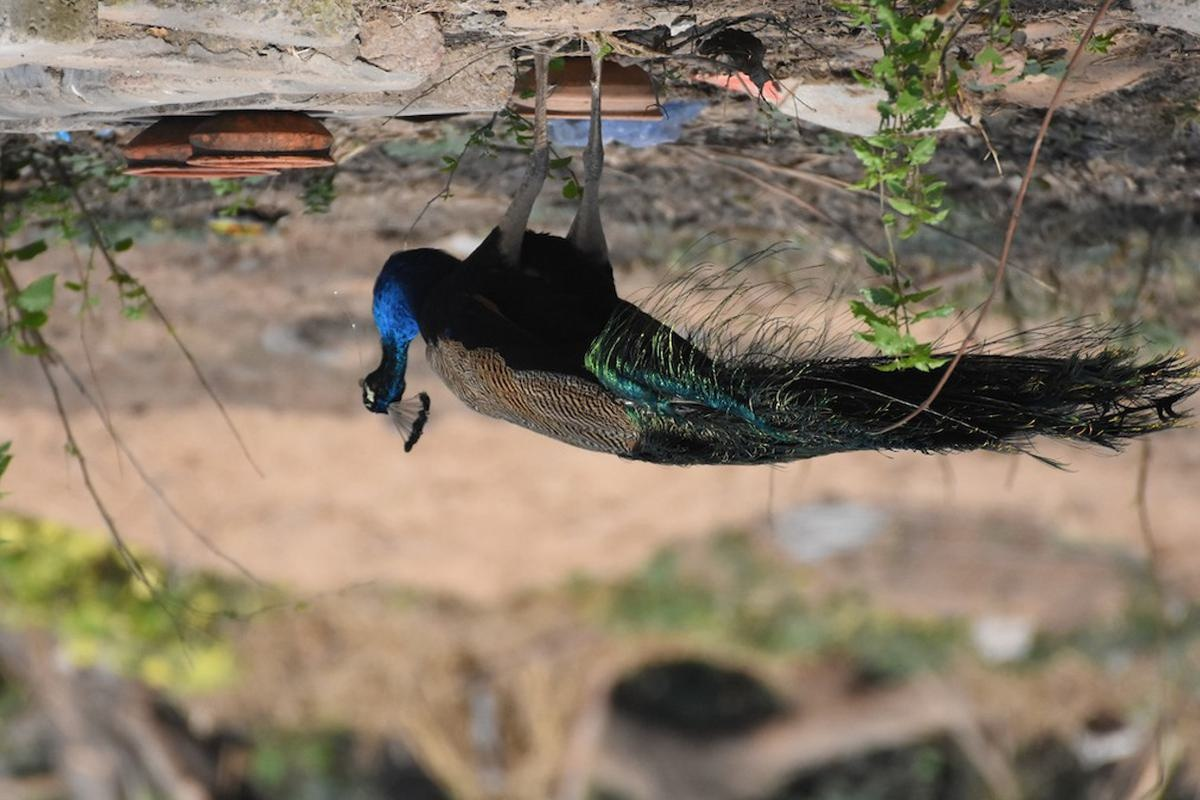peacock: (295, 75, 1200, 523)
